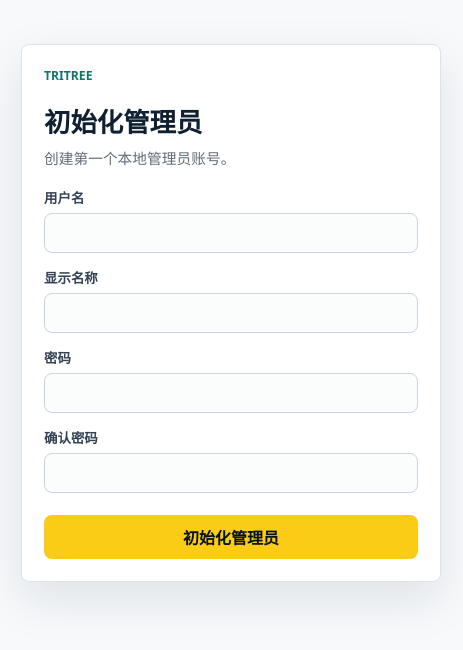
SetupAdminForm › displays server errors without redirecting
Type "awei" into the field labelled "用户名" at (231, 233), box [44,213,418,253]
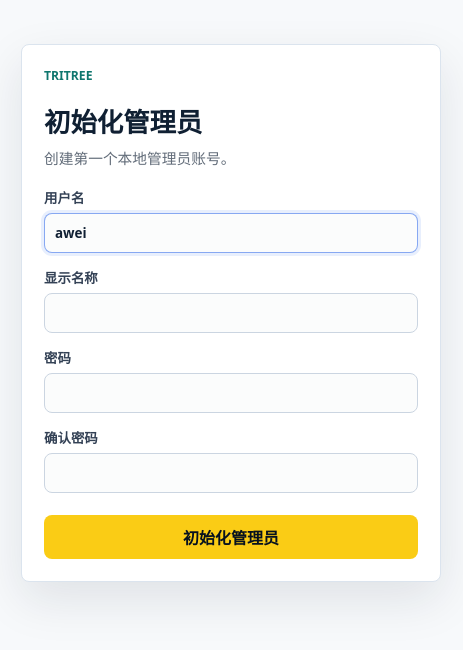
Type "Awei" into the field labelled "显示名称" at (231, 313), box [44,293,418,333]
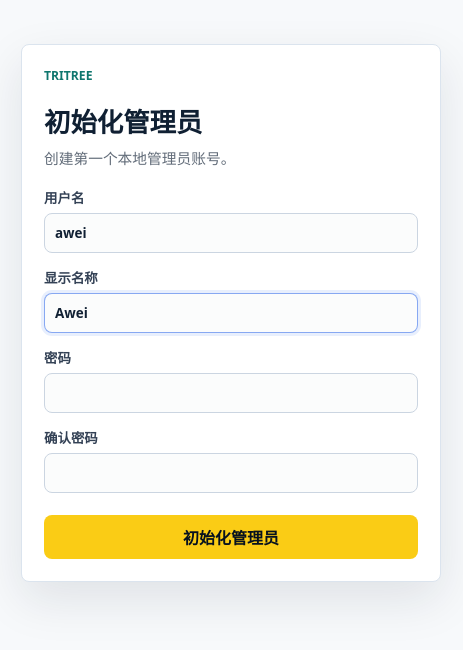
Type "password-123" into the password field labelled "密码" at (231, 393), box [44,373,418,413]
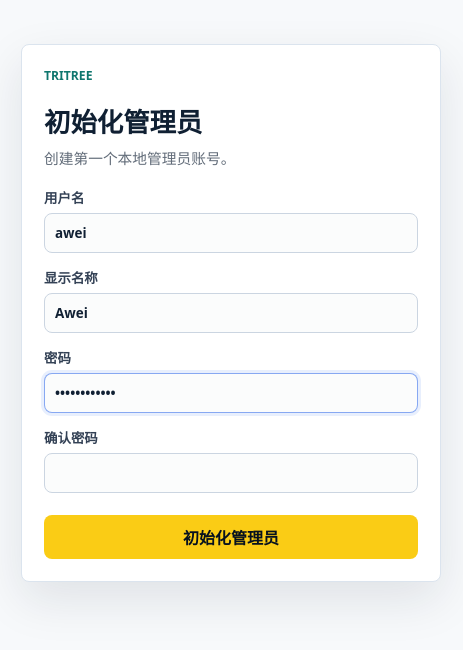
Type "password-123" into the password field labelled "确认密码" at (231, 473), box [44,453,418,493]
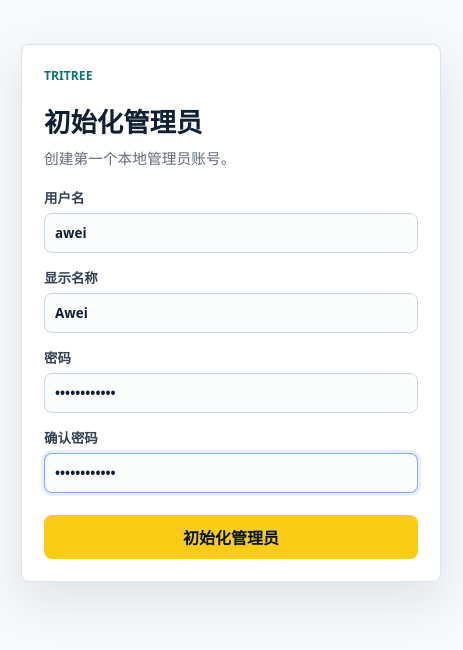
Click the button "初始化管理员" at (231, 537), box [44,515,418,559]
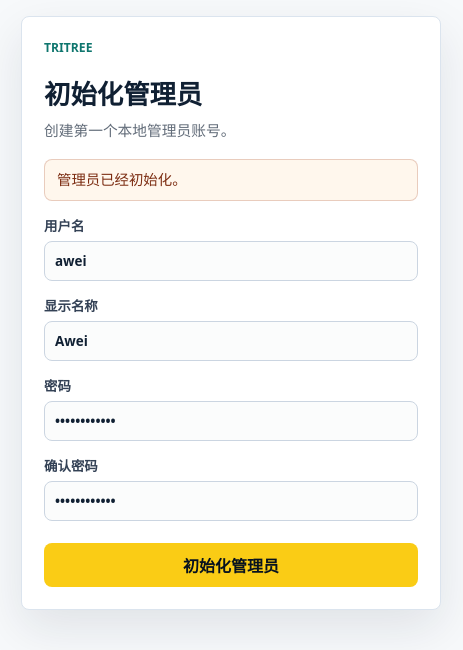
Check: the message reads "管理员已经初始化。", box [57,170,186,189]
